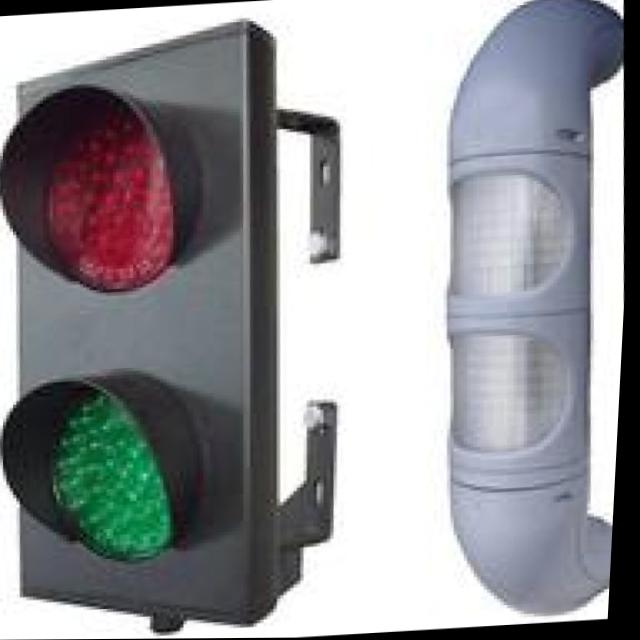green_light: (0, 341, 275, 612)
red_light: (0, 54, 241, 339)
